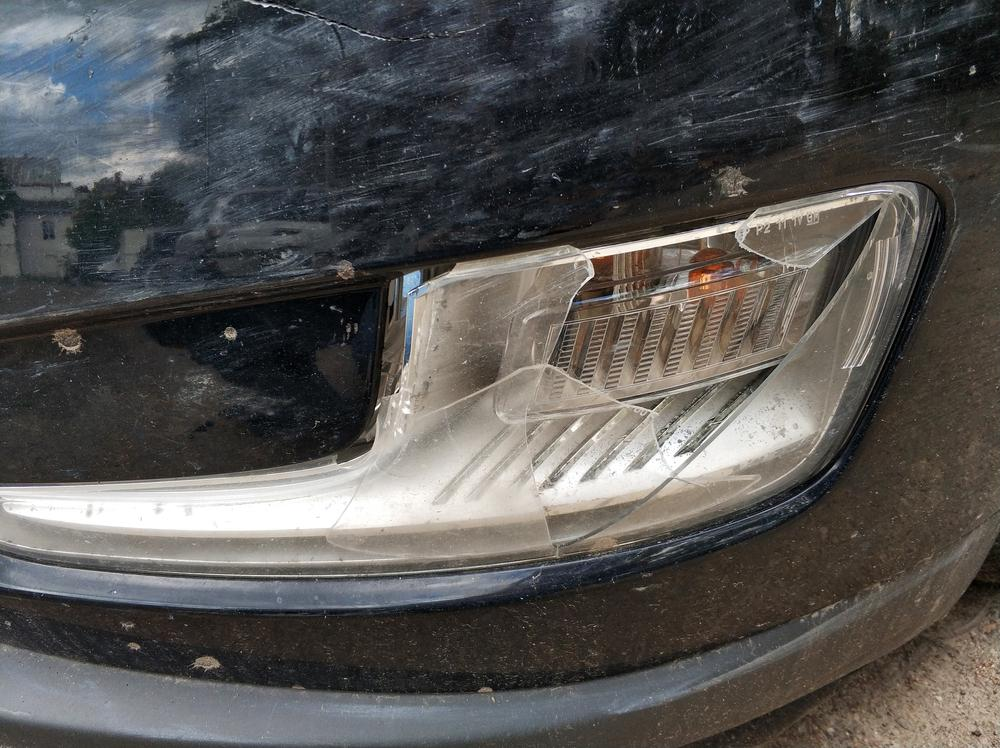crack: (246, 0, 510, 42)
lamp broken: (339, 180, 938, 564)
